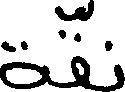ة: (0, 38, 46, 89)
ق: (54, 28, 92, 90)
ن: (104, 39, 124, 90)
